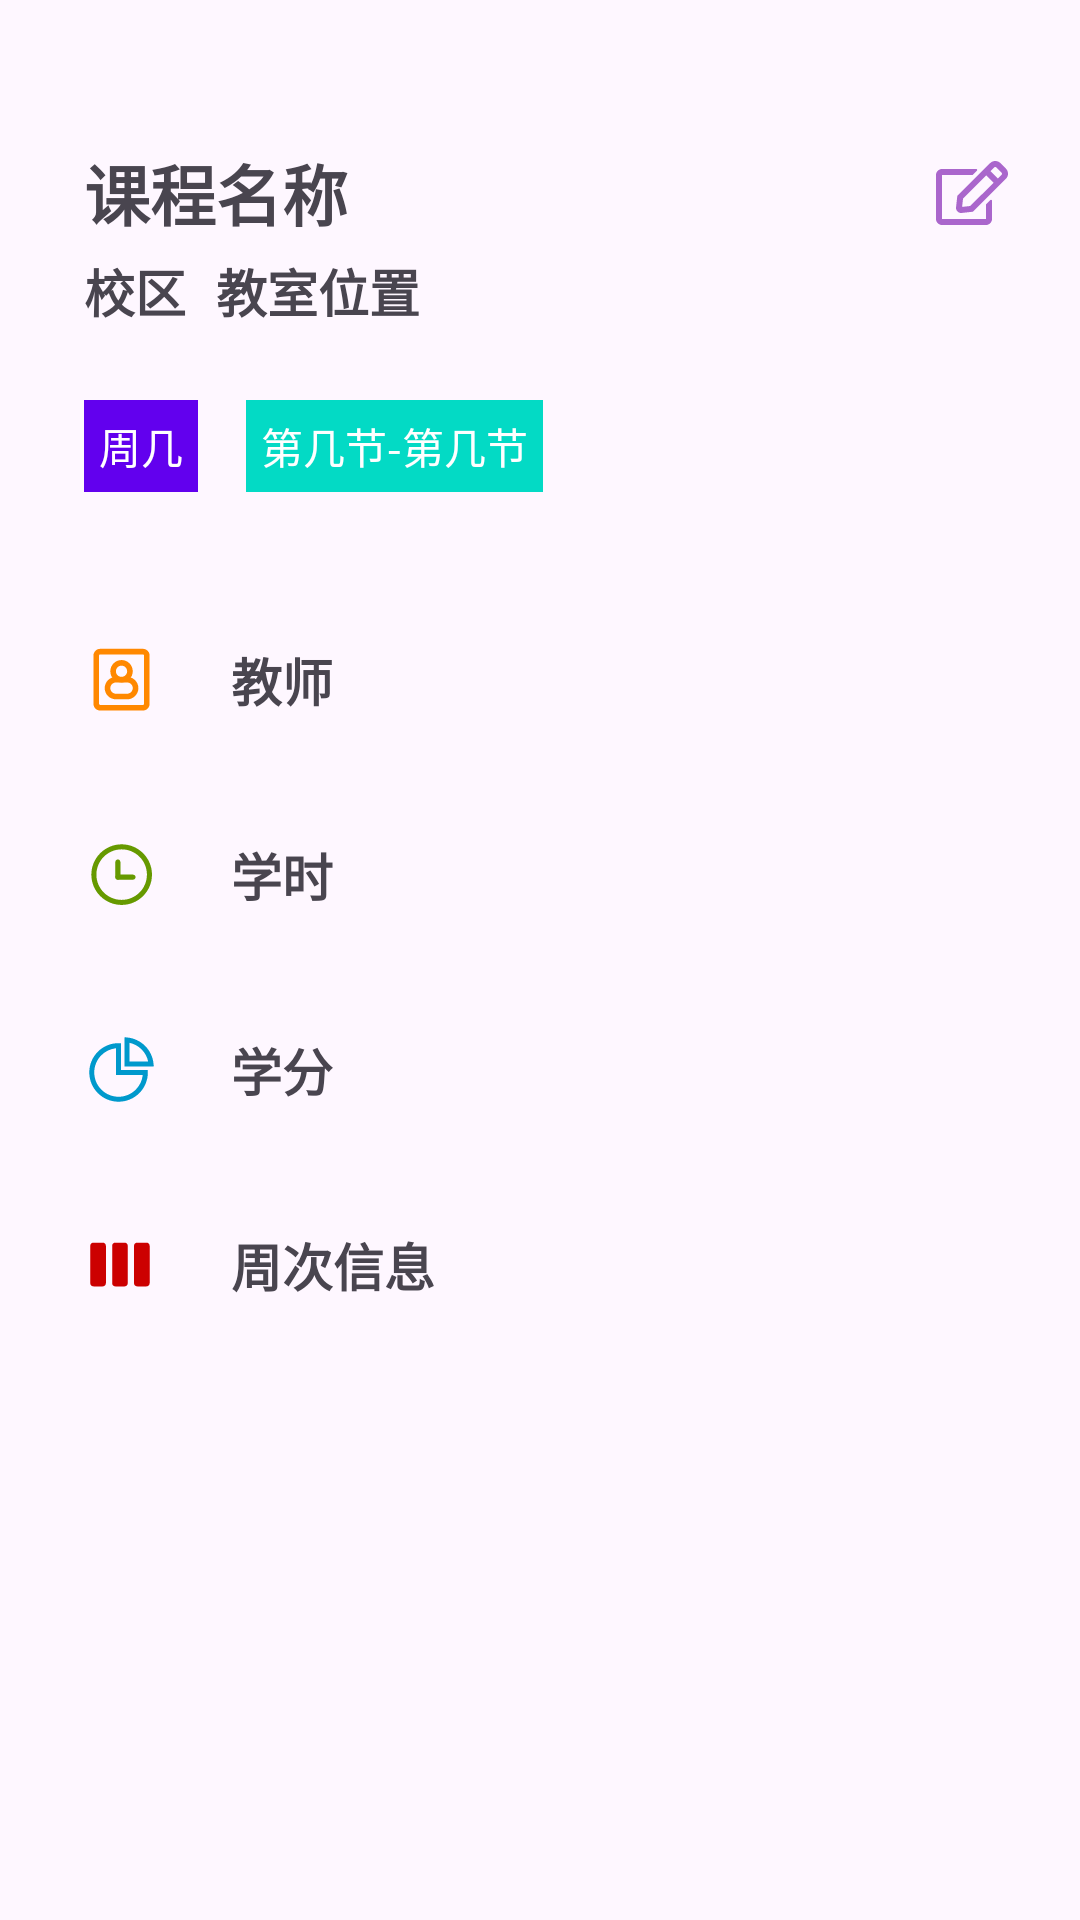

Icons on this 1080px×1920px Android screen, each with its box as box(x1, y1, x2, y2):
edit: box(936, 161, 1008, 225)
score: box(89, 1037, 154, 1102)
teacher: box(93, 648, 150, 711)
time: box(91, 844, 152, 905)
